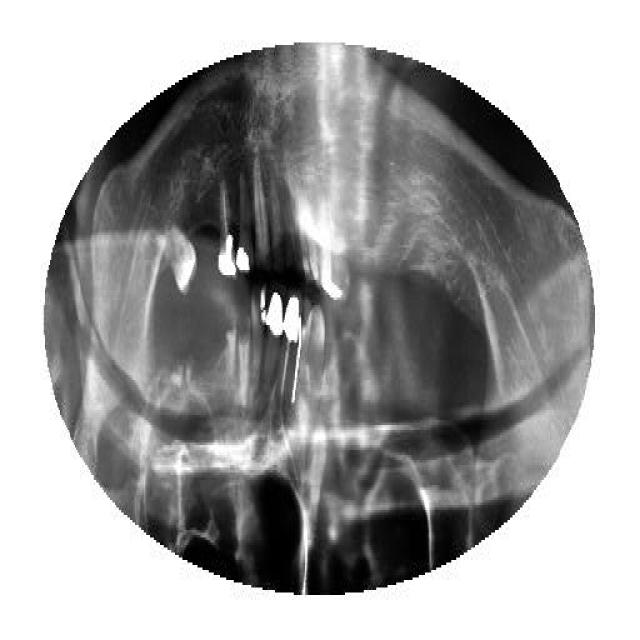Cavity: (235, 308, 251, 408), (225, 315, 236, 377)
Fillings: (258, 292, 282, 408), (234, 162, 256, 278), (250, 280, 266, 392)
Implant: (278, 292, 302, 408), (218, 175, 236, 280)
